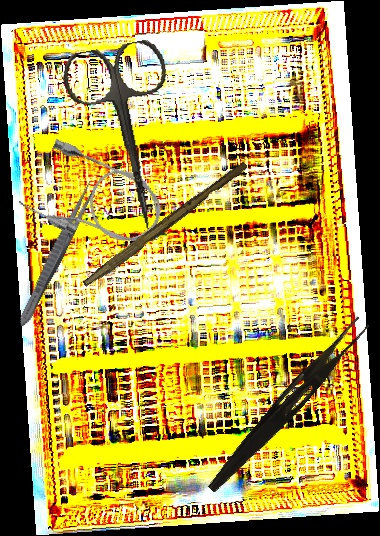Cannula: (15, 134, 174, 264)
Dressing Forceps: (204, 310, 371, 501), (14, 178, 100, 330)
Iris Scissors: (59, 36, 197, 240)
Scalpel Handle: (81, 157, 250, 293)
